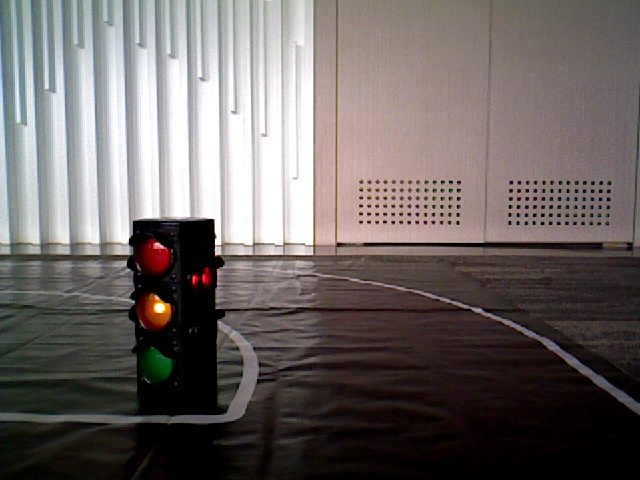yellow: (135, 222, 184, 388)
